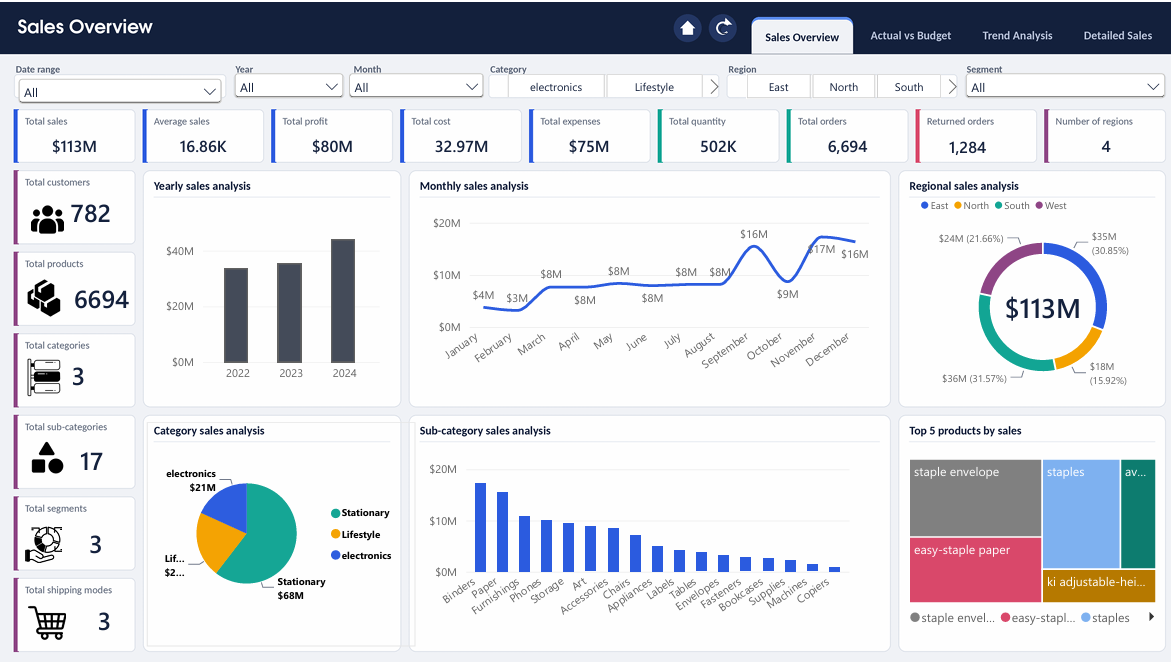

The page's visual inventory and layout, read from the dashboard file:
{"tool":"powerbi","page":{"name":"Sales Overview","canvas":[1280,720],"ordinal":1},"visuals":[{"type":"slicer","fields":{"Values":["Date Table.Year","SALES -XL.Sales"]},"box":[16,78,229.7,33.7],"z":0},{"type":"slicer","fields":{"Values":["Date Table.Year"]},"box":[250,72.3,127.7,31.5],"z":1000},{"type":"slicer","fields":{"Values":["Date Table.MonthName"]},"box":[373.8,72.3,156.2,31.5],"z":2000},{"type":"slicer","fields":{"Values":["SALES -XL.Category"]},"box":[530.3,76.4,250.5,26],"z":3000},{"type":"slicer","fields":{"Values":["SALES -XL.Region"]},"box":[789.1,75.6,249.6,29.9],"z":4000},{"type":"slicer","fields":{"Values":["SALES -XL.Segment"]},"box":[1042.3,72.3,226.2,31.5],"z":5000},{"type":"card","fields":{"Values":["Measure Table.MSales"]},"box":[19.5,133,123.3,52.3],"z":6000},{"type":"card","fields":{"Values":["Avg(SALES -XL.Sales)"]},"box":[159.4,133.4,123.6,52],"z":7000},{"type":"card","fields":{"Values":["Measure Table.Profit"]},"box":[299.3,133.4,123.6,52],"z":8000},{"type":"card","fields":{"Values":["Sum(SALES -XL.Total Cost)"]},"box":[439.2,133.4,123.6,52],"z":9000},{"type":"card","fields":{"Values":["Measure Table.Expense"]},"box":[577.4,133.4,123.6,52],"z":10000},{"type":"card","fields":{"Values":["Sum(SALES -XL.Quantity)"]},"box":[717.3,133.4,123.6,52],"z":11000},{"type":"card","fields":{"Values":["Measure Table.Total orders"]},"box":[857.2,133.4,123.6,52],"z":12000},{"type":"card","fields":{"Values":["Measure Table.Region"]},"box":[1137,133.4,123.6,52],"z":13000},{"type":"card","fields":{"Values":["Measure Table.Total Customer"]},"box":[52.3,203.9,94.9,52.3],"z":14000},{"type":"card","fields":{"Values":["CountNonNull(SALES -XL.Product Name)"]},"box":[62.1,297,97.5,52.3],"z":15000},{"type":"card","fields":{"Values":["Measure Table.Total Categories"]},"box":[23.9,380.4,123.6,52.3],"z":16000},{"type":"card","fields":{"Values":["Measure Table.Sub Categories"]},"box":[55.9,471.7,87.8,52.3],"z":17000},{"type":"card","fields":{"Values":["Measure Table.Segment"]},"box":[48.8,560.4,110.8,55.9],"z":18000},{"type":"card","fields":{"Values":["Measure Table.Ship model"]},"box":[52.3,645.5,123.6,52.3],"z":19000},{"type":"clusteredColumnChart","fields":{"Category":["Date Table.Year"],"Y":["Measure Table.MSales"]},"box":[163.6,216,264,215],"z":20000},{"type":"lineChart","fields":{"Category":["Date Table.MonthName"],"Y":["Measure Table.MSales"]},"box":[451.6,216,506.4,215],"z":21000},{"type":"donutChart","fields":{"Category":["SALES -XL.Region"],"Y":["Measure Table.MSales"]},"box":[980.7,191.5,299.7,251.8],"z":22000},{"type":"pieChart","fields":{"Category":["SALES -XL.Category"],"Y":["Measure Table.MSales"]},"box":[159.6,454.9,291.7,243],"z":23000},{"type":"clusteredColumnChart","fields":{"Category":["SALES -XL.Sub-Category"],"Y":["Measure Table.MSales"]},"box":[448.7,483.3,488.6,214.6],"z":24000},{"type":"treemap","fields":{"Group":["SALES -XL.Product Name"],"Values":["Measure Table.MSales"]},"box":[970,480.6,298.8,215.5],"z":25000},{"type":"card","fields":{"Values":["Measure Table.Item Return"]},"box":[987.3,126.9,123.6,65.1],"z":26000},{"type":"actionButton","box":[936.9,17.9,99.2,37.4],"z":27000},{"type":"actionButton","box":[1055.6,17.9,99.2,37.4],"z":28000},{"type":"actionButton","box":[1169.5,17.9,99.2,37.4],"z":29000},{"type":"actionButton","box":[731.9,16.3,27.7,22.8],"z":30000},{"type":"actionButton","box":[768,14.1,31.6,24.6],"z":31000},{"type":"image","box":[27.5,384.8,42.6,43.4],"z":32000},{"type":"image","box":[34.6,216.4,35.5,39],"z":33000},{"type":"image","box":[31,471.7,42.6,43.4],"z":34000},{"type":"image","box":[27.5,568.4,42.6,39.9],"z":35000},{"type":"image","box":[31,651.7,42.6,40.8],"z":36000},{"type":"image","box":[27.5,297,42.6,46.1],"z":37000}]}

Visuals, with their boxes in screenshot pixels (x1, y1, x2, y2), scaled from the page's 1280x720 canvas onto the 1171x662 screenshot:
slicer - Date Table.Year x SALES -XL.Sales: 15 72 225 103
slicer - Date Table.Year: 229 66 346 95
slicer - Date Table.MonthName: 342 66 485 95
slicer - SALES -XL.Category: 485 70 714 94
slicer - SALES -XL.Region: 722 70 950 97
slicer - SALES -XL.Segment: 954 66 1160 95
card - Measure Table.MSales: 18 122 131 170
card - Avg(SALES -XL.Sales): 146 123 259 170
card - Measure Table.Profit: 274 123 387 170
card - Sum(SALES -XL.Total Cost): 402 123 515 170
card - Measure Table.Expense: 528 123 641 170
card - Sum(SALES -XL.Quantity): 656 123 769 170
card - Measure Table.Total orders: 784 123 897 170
card - Measure Table.Region: 1040 123 1153 170
card - Measure Table.Total Customer: 48 187 135 236
card - CountNonNull(SALES -XL.Product Name): 57 273 146 321
card - Measure Table.Total Categories: 22 350 135 398
card - Measure Table.Sub Categories: 51 434 131 482
card - Measure Table.Segment: 45 515 146 567
card - Measure Table.Ship model: 48 594 161 642
clusteredColumnChart - Date Table.Year x Measure Table.MSales: 150 199 391 396
lineChart - Date Table.MonthName x Measure Table.MSales: 413 199 876 396
donutChart - SALES -XL.Region x Measure Table.MSales: 897 176 1170 408
pieChart - SALES -XL.Category x Measure Table.MSales: 146 418 413 642
clusteredColumnChart - SALES -XL.Sub-Category x Measure Table.MSales: 410 444 857 642
treemap - SALES -XL.Product Name x Measure Table.MSales: 887 442 1161 640
card - Measure Table.Item Return: 903 117 1016 177
actionButton: 857 16 948 51
actionButton: 966 16 1056 51
actionButton: 1070 16 1161 51
actionButton: 670 15 695 36
actionButton: 703 13 732 36
image: 25 354 64 394
image: 32 199 64 235
image: 28 434 67 474
image: 25 523 64 559
image: 28 599 67 637
image: 25 273 64 315
